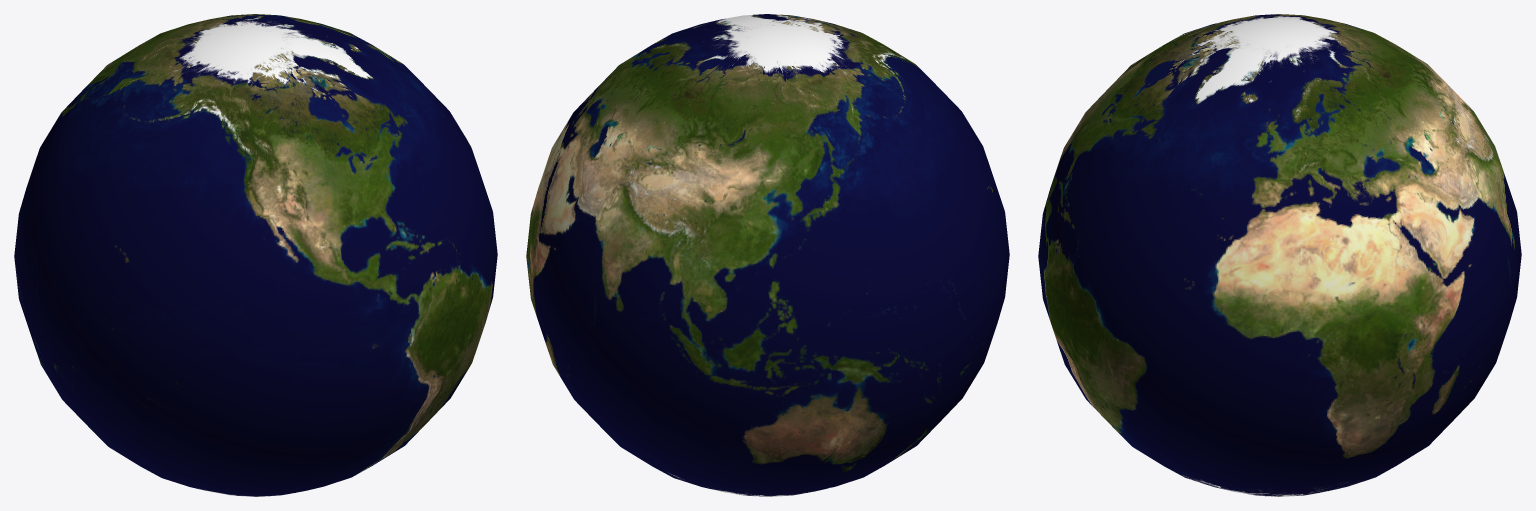
The model's file is Earth_Three+Views.dae.
The picture shows the model from 3 angles, left to right: view 1: azimuth 30°, elevation 25°; view 2: azimuth 150°, elevation 25°; view 3: azimuth 270°, elevation 25°; orthographic projection.
Visible parts, largest first — view 1: Globe; view 2: Globe; view 3: Globe.
Boxes of the visible parts, box(x1,y1,x2,y2) form: Globe: box(14, 14, 497, 496); Globe: box(526, 14, 1009, 496); Globe: box(1038, 14, 1521, 496).
Bounding box in the file's own units: 505 × 505 × 505.
Materials: 2 (1 with a texture image).
